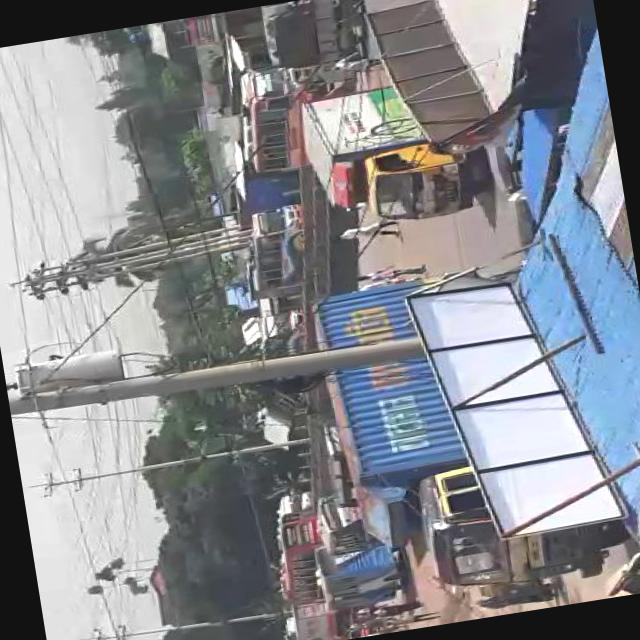bus: (238, 64, 324, 174), (306, 546, 406, 618), (239, 207, 317, 299), (264, 526, 326, 602), (306, 492, 363, 556)
truck: (306, 253, 627, 617), (296, 78, 481, 234), (261, 0, 371, 93)
